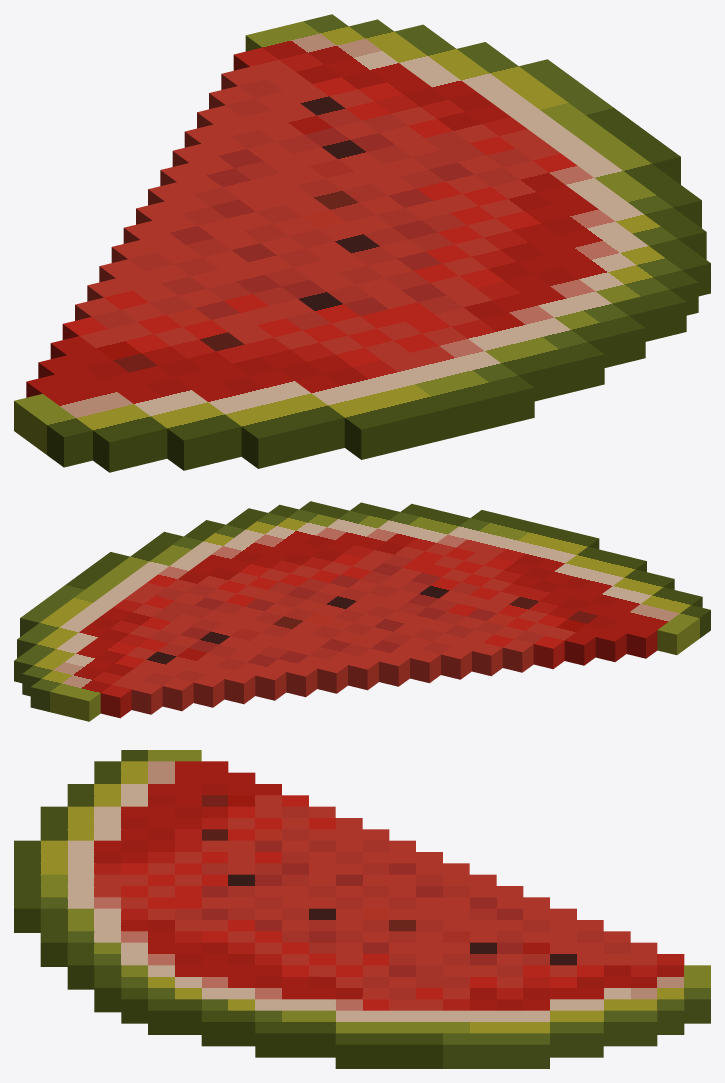
The model's file is SM_HealthDrops_Melon_Minecraft.fbx.
3 renders of one model, top to bottom at view 1: azimuth 30°, elevation 25°; view 2: azimuth 150°, elevation 25°; view 3: azimuth 270°, elevation 25°, orthographic. The views are drawn at different scales.
Visible parts, largest first — view 1: T_Melon_Slice_Minecraft_6; view 2: T_Melon_Slice_Minecraft_6; view 3: T_Melon_Slice_Minecraft_6.
Boxes of the visible parts, x1,y1,x2,y2 form: T_Melon_Slice_Minecraft_6: [14, 14, 710, 472]; T_Melon_Slice_Minecraft_6: [14, 501, 710, 721]; T_Melon_Slice_Minecraft_6: [14, 750, 710, 1068].
Size of the model in its own units: 13.15 by 0.5057 by 13.15.
